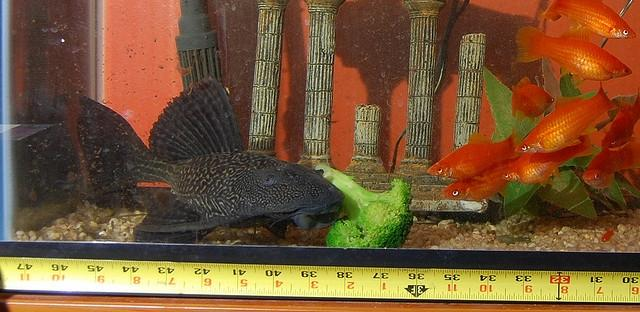broccoli: (316, 164, 414, 248)
